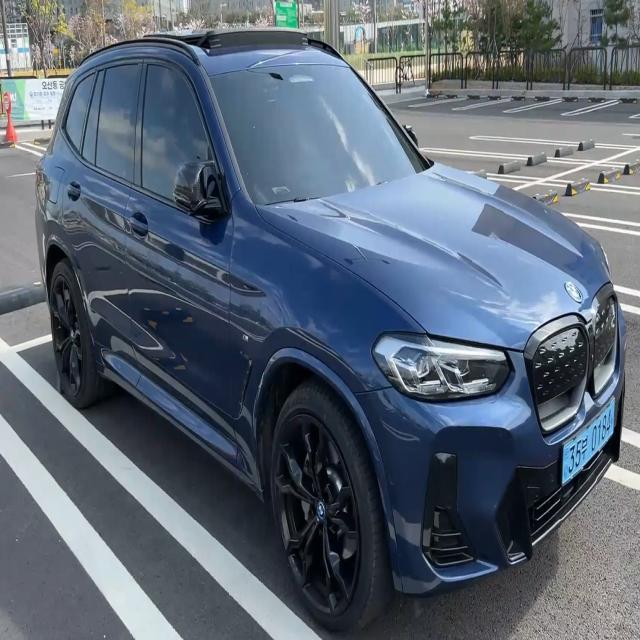car: (554, 386, 621, 493)
carev: (561, 445, 570, 488), (608, 399, 617, 440)
